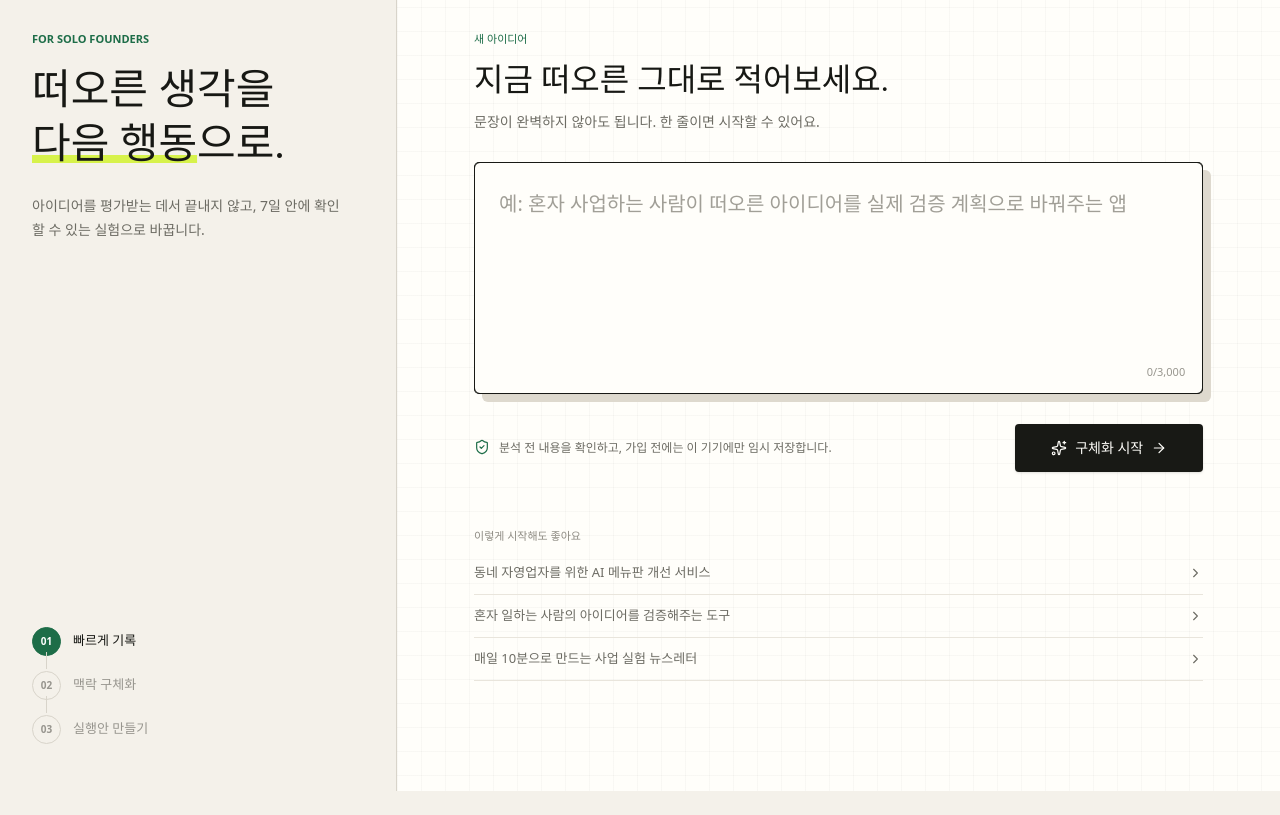
Test: workspace flow › moves from capture to questions and an actionable result
The image size is (1280, 815).
In the text box named "아이디어 입력": [839, 278] box x1=475 y1=163 x2=1202 y2=393, type "혼자 사업하는 사람의 아이디어를 검증하는 앱"
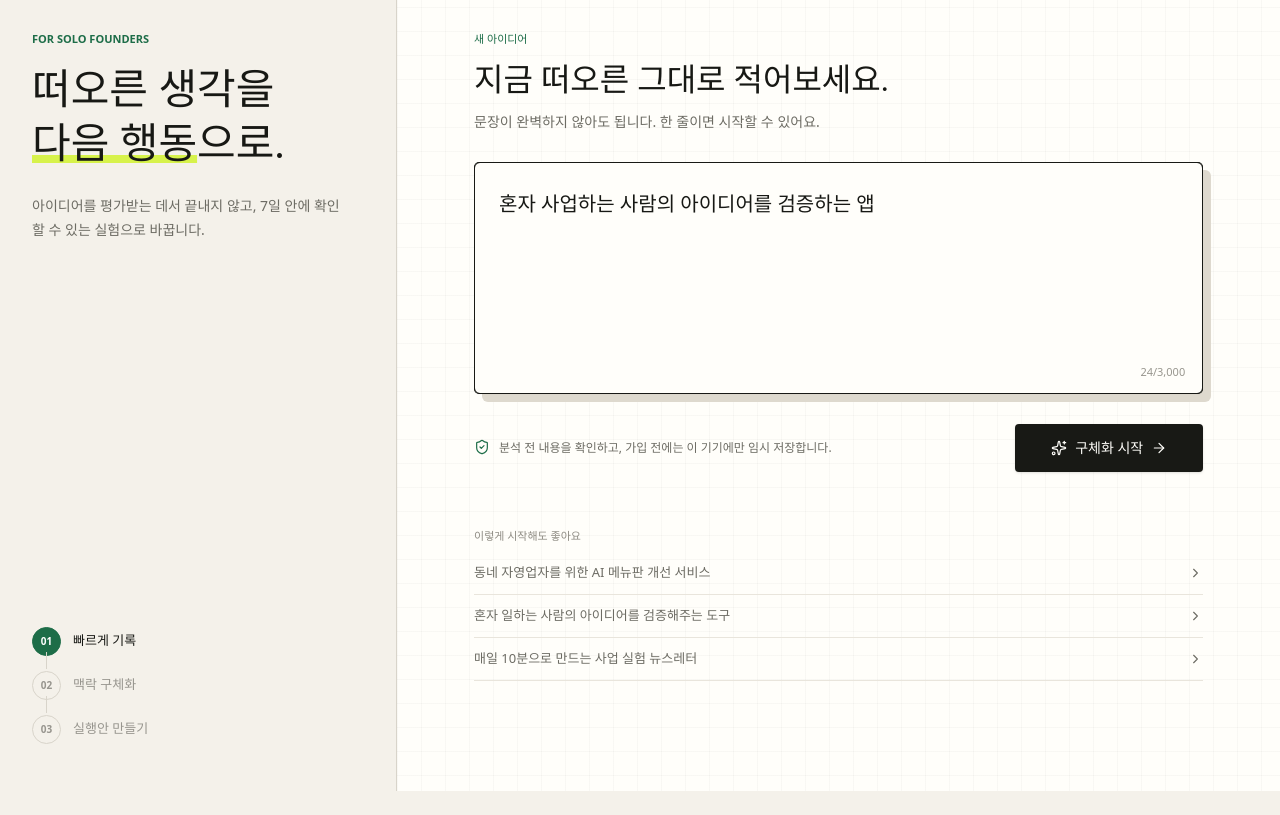
Click the button "구체화 시작": [1109, 448] box x1=1015 y1=424 x2=1203 y2=472
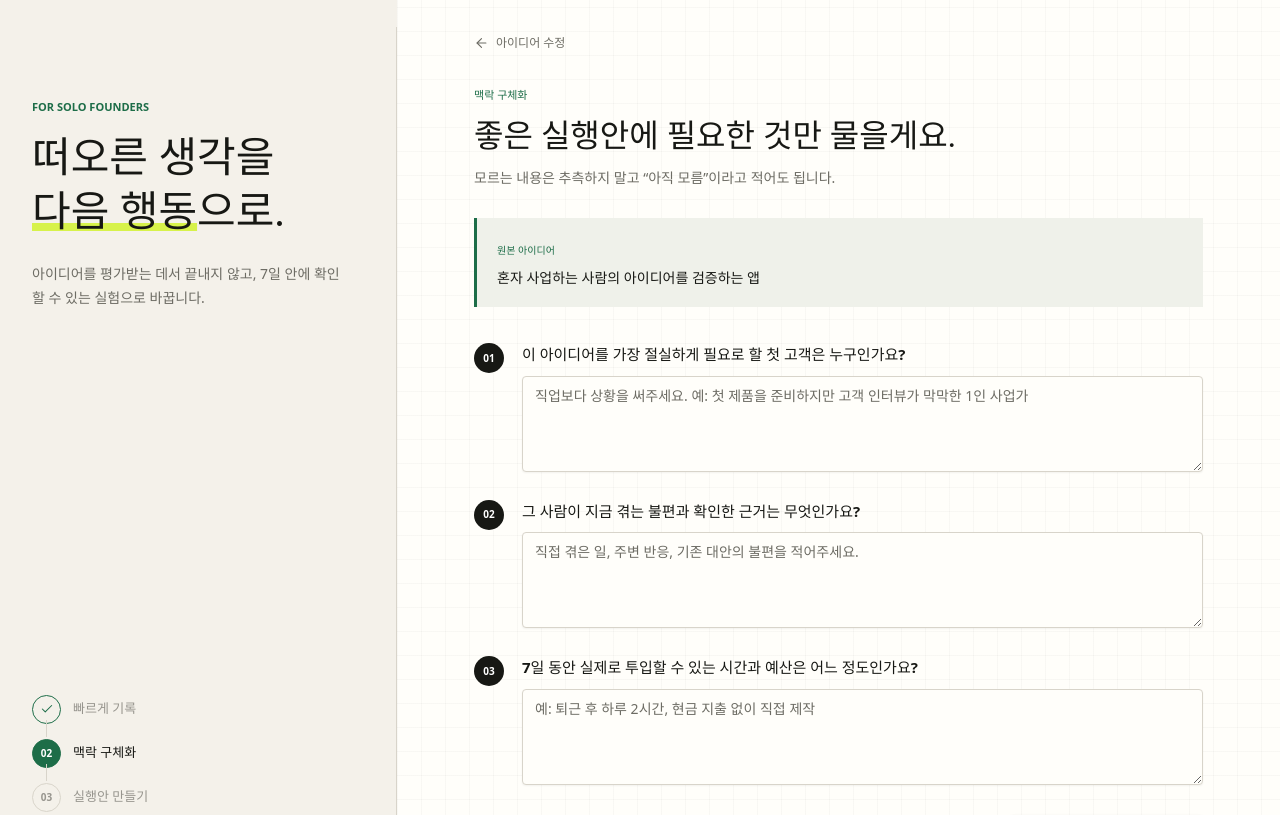
In the text box labelled "01 이 아이디어를 가장 절실하게 필요로 할 첫 고객은 누구인가요?": [863, 424] box x1=522 y1=376 x2=1203 y2=472, type "초기 1인 사업가가 반복해서 겪는 문제입니다."
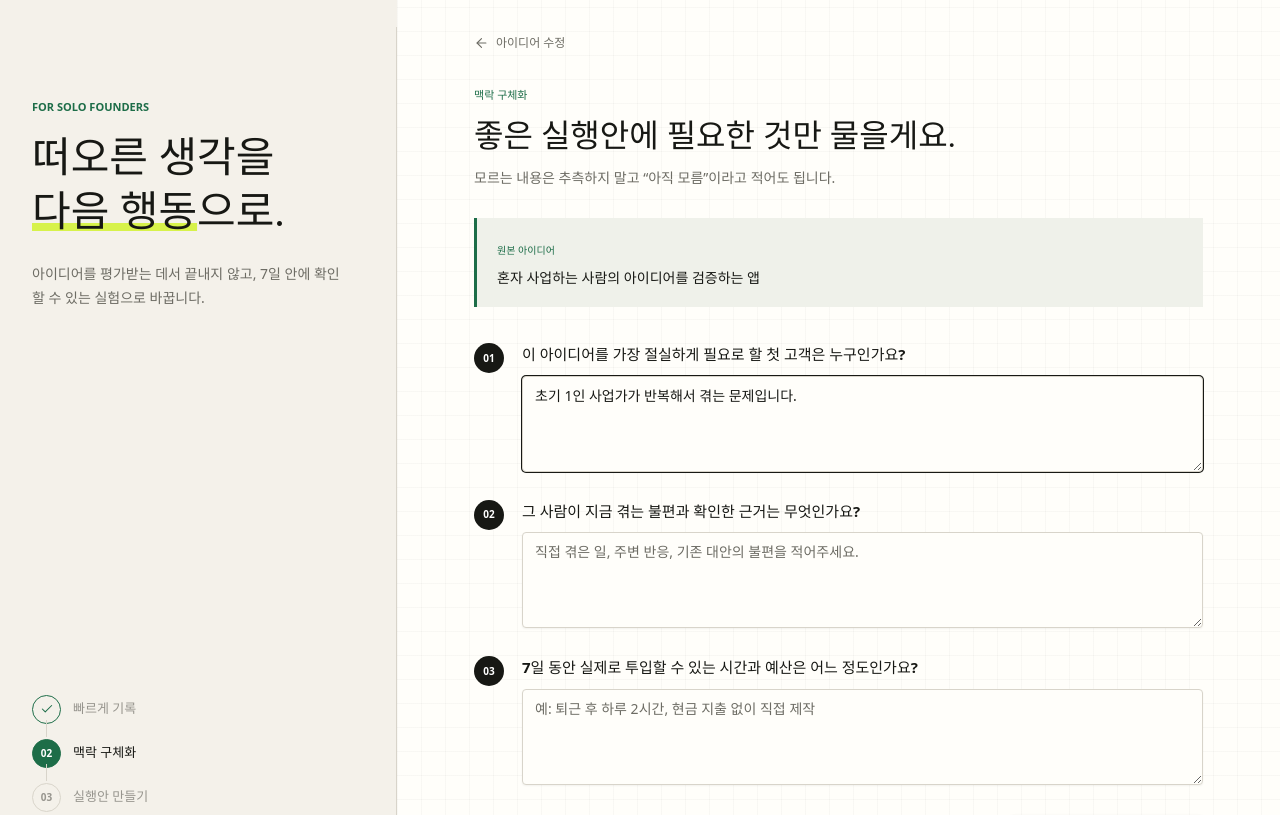
In the text box labelled "02 그 사람이 지금 겪는 불편과 확인한 근거는 무엇인가요?": [863, 580] box x1=522 y1=532 x2=1203 y2=628, type "초기 1인 사업가가 반복해서 겪는 문제입니다."
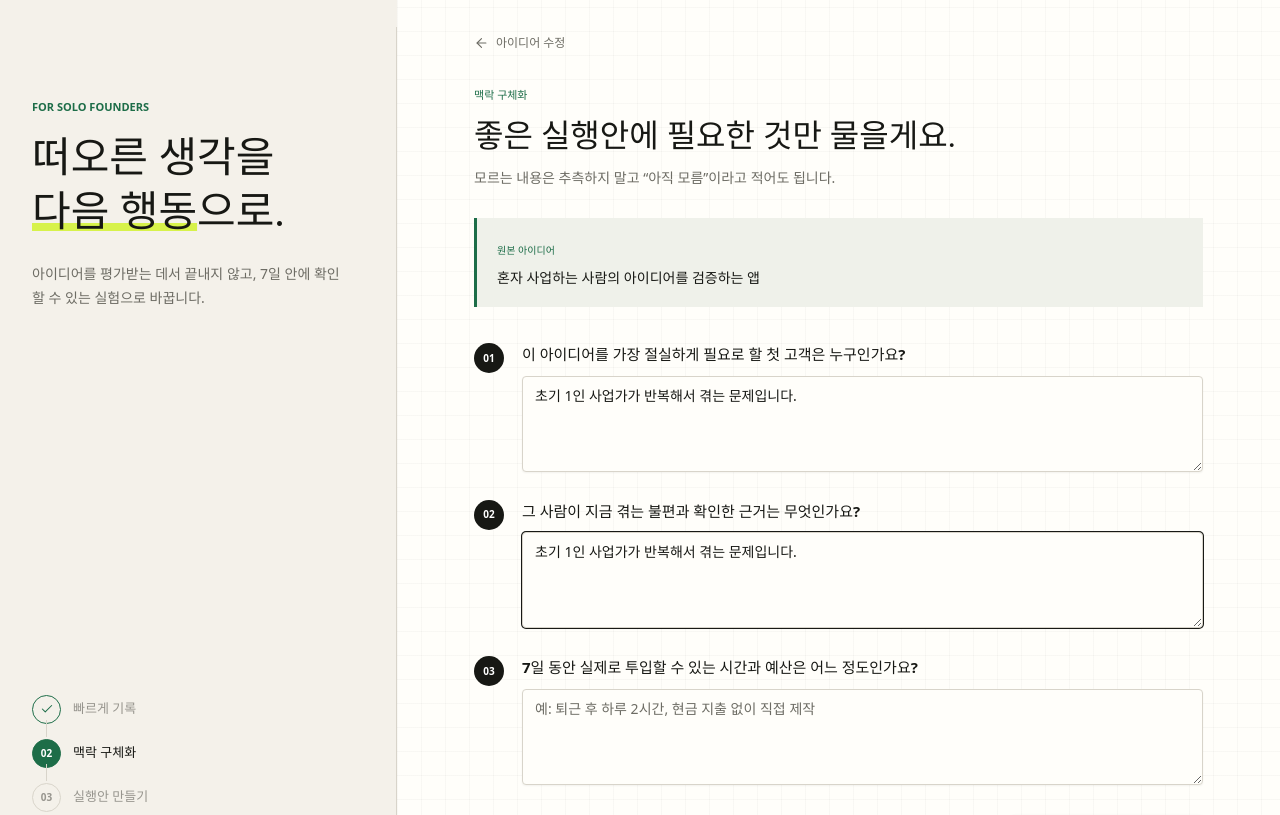
In the text box labelled "03 7일 동안 실제로 투입할 수 있는 시간과 예산은 어느 정도인가요?": [863, 737] box x1=522 y1=689 x2=1203 y2=785, type "초기 1인 사업가가 반복해서 겪는 문제입니다."
(page scrolled)
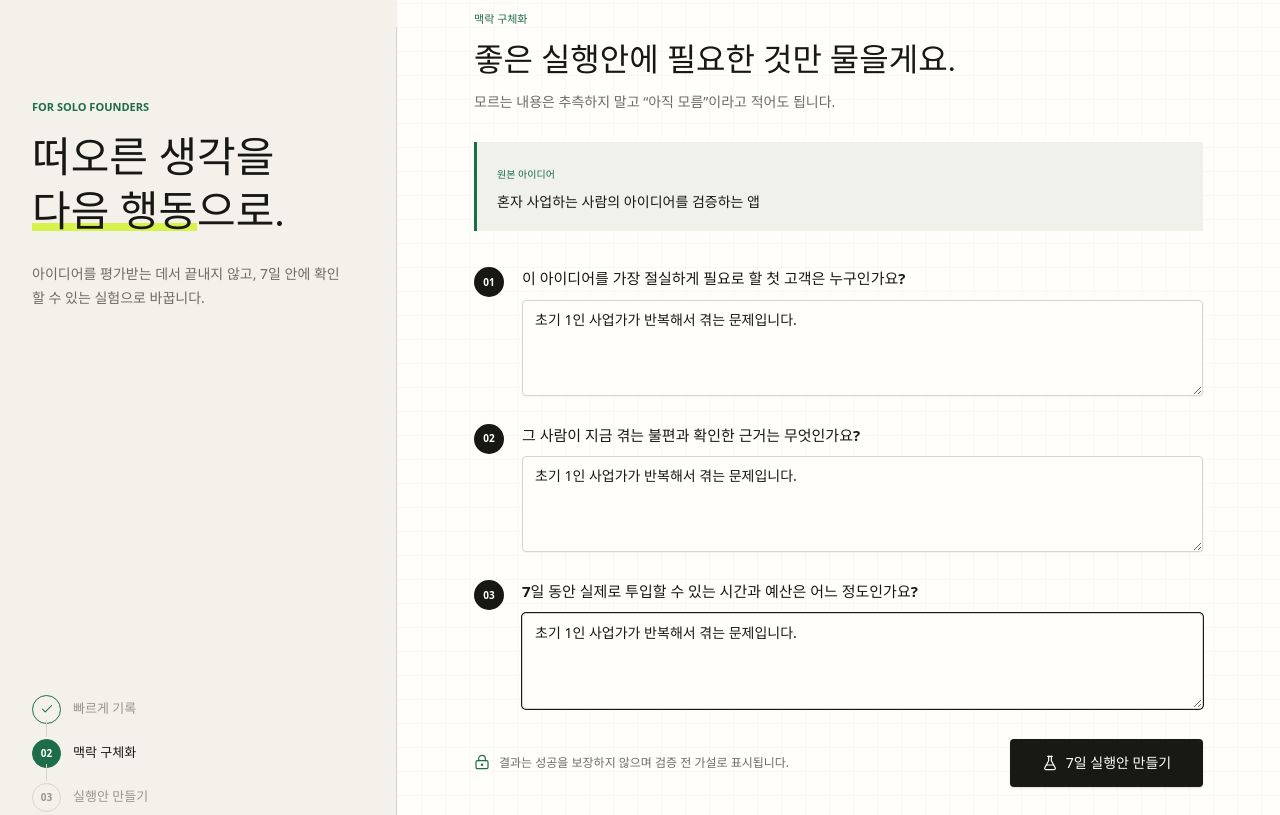
Click the button "7일 실행안 만들기": [1107, 763] box x1=1010 y1=739 x2=1203 y2=787
(page scrolled)
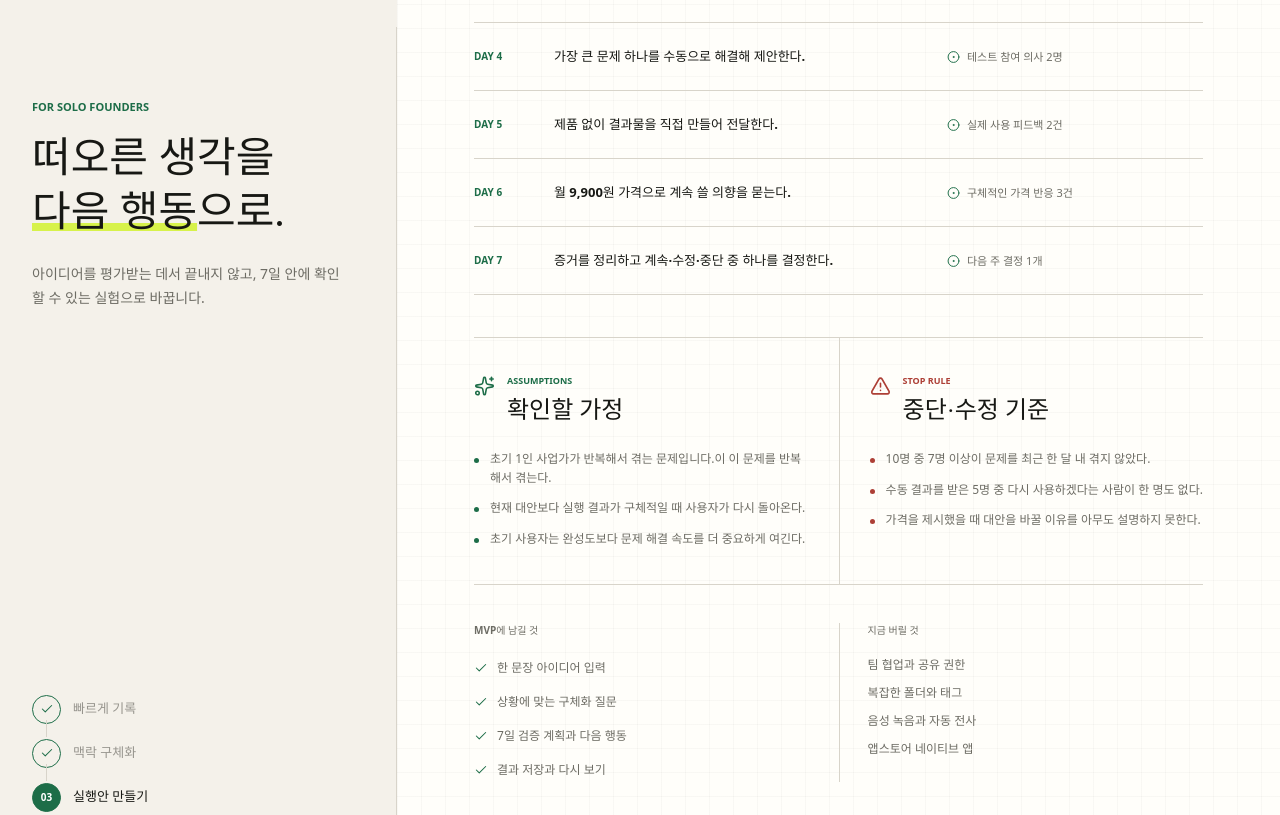
Now the heading "중단·수정 기준" is shown, box x1=903 y1=392 x2=1049 y2=428
